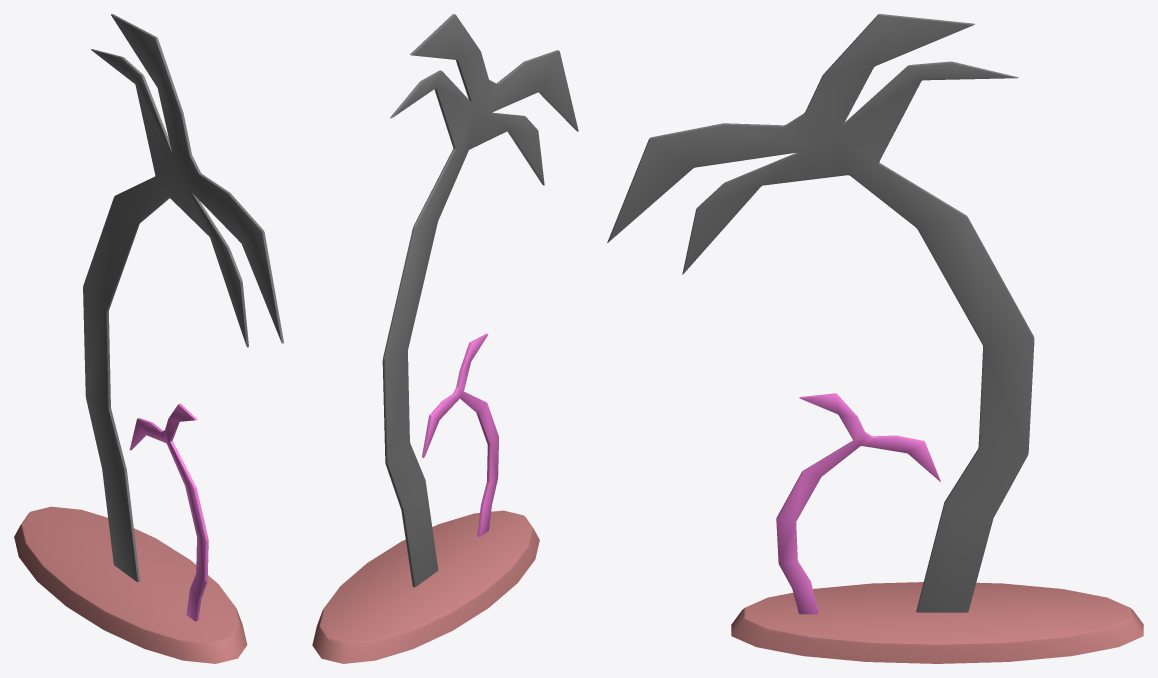
Rendered from tree.fbx.
3 renders of one model, left to right at view 1: azimuth 30°, elevation 25°; view 2: azimuth 150°, elevation 25°; view 3: azimuth 270°, elevation 25°, orthographic. The views are drawn at different scales.
Parts seen in each view (by area): view 1: treeb, base, trees; view 2: treeb, base, trees; view 3: treeb, base, trees.
Boxes of the visible parts, left/top/right/bottom form: treeb: left=83, top=14, right=283, bottom=581; base: left=14, top=506, right=247, bottom=663; trees: left=129, top=403, right=208, bottom=621; treeb: left=382, top=14, right=578, bottom=587; base: left=312, top=510, right=539, bottom=663; trees: left=422, top=333, right=498, bottom=536; treeb: left=607, top=14, right=1034, bottom=612; base: left=731, top=582, right=1143, bottom=663; trees: left=776, top=393, right=940, bottom=614.
Size of the model in its own units: 40.55 by 173 by 137.
